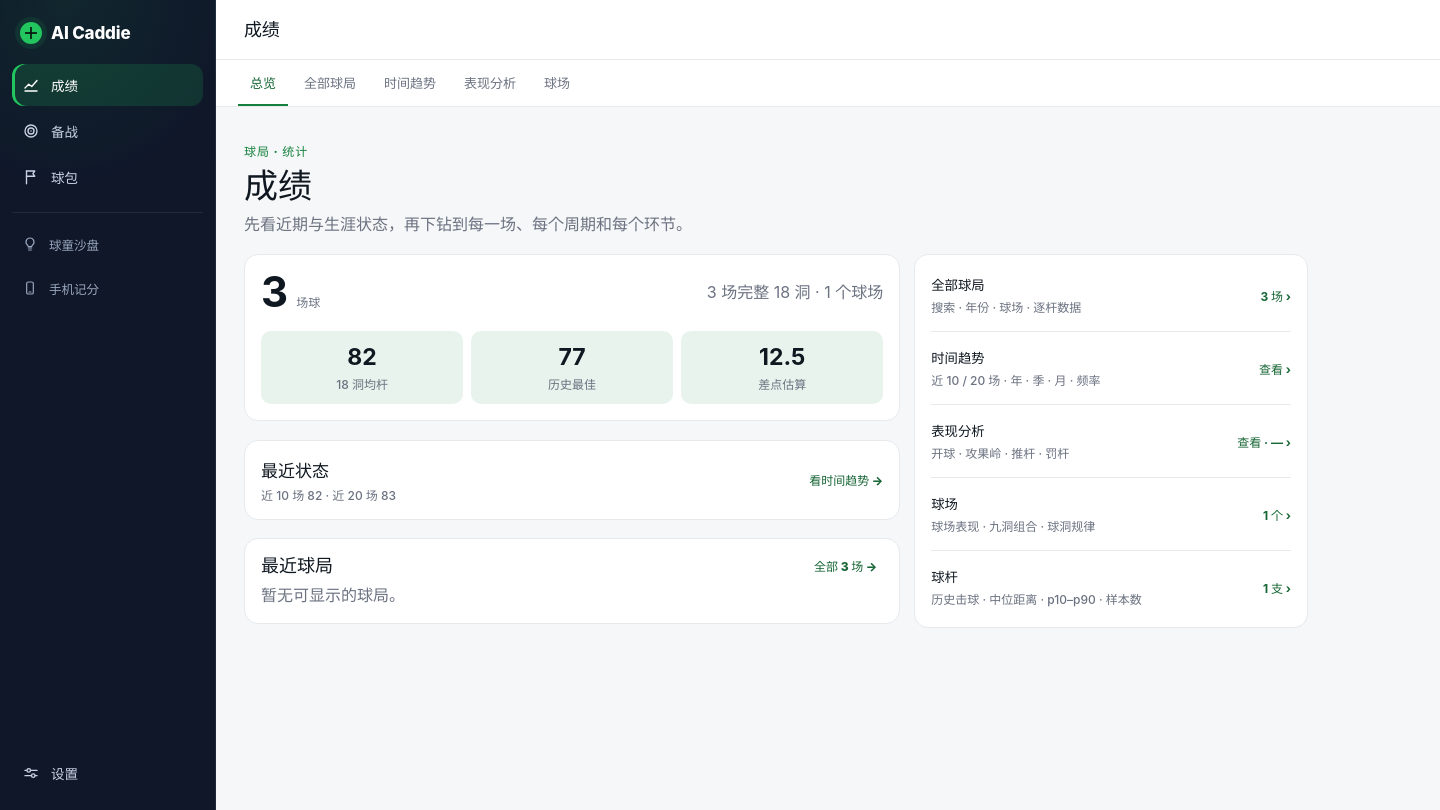
Test: App navigation › rounds error screen offers token recovery via 去设置
Check: the 1st heading "成绩" is shown, box [244,20,280,39]
Click the button "全部球局": (330, 83) [292,60,368,106]
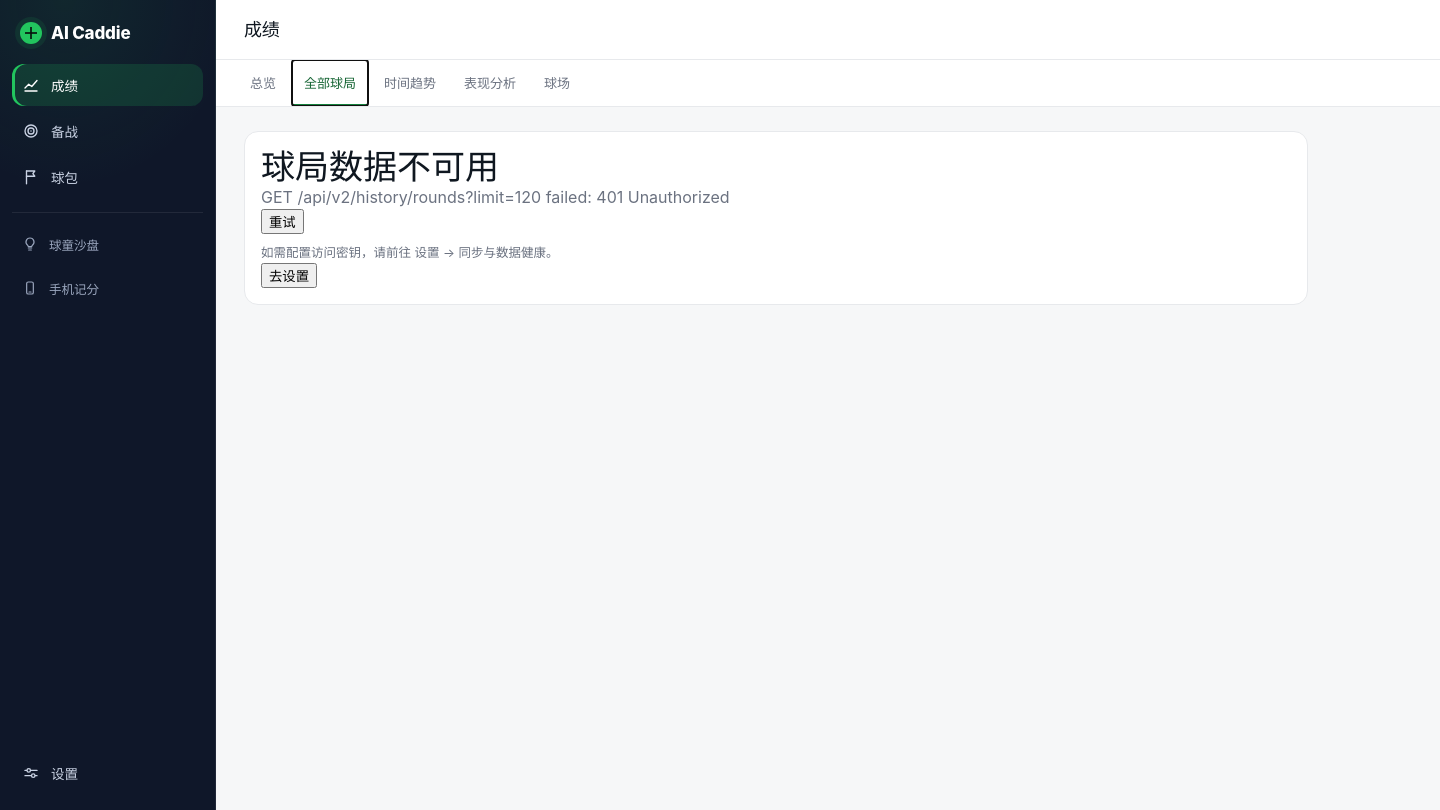
Check: the heading "球局数据不可用" is shown, box [261,146,499,187]
Check: the text "如需配置访问密钥，请前往 设置 → 同步与数据健康。" is shown, box [261,245,558,260]
Click the button "去设置": (289, 276) [261,263,317,288]
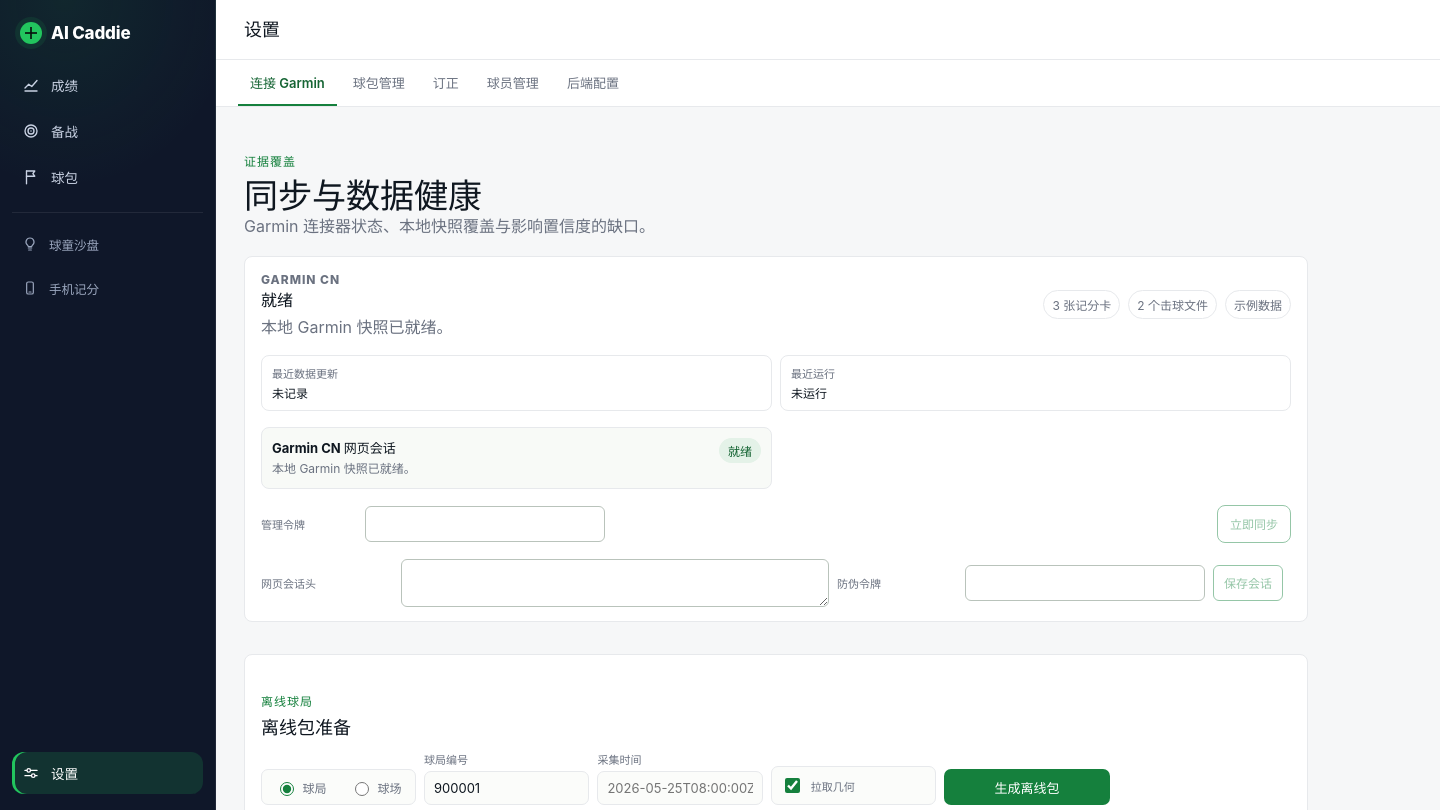
Check: the heading "同步与数据健康" is shown, box [244,175,482,216]
Check: the password field labelled "管理令牌" is shown, box [365,506,605,542]
